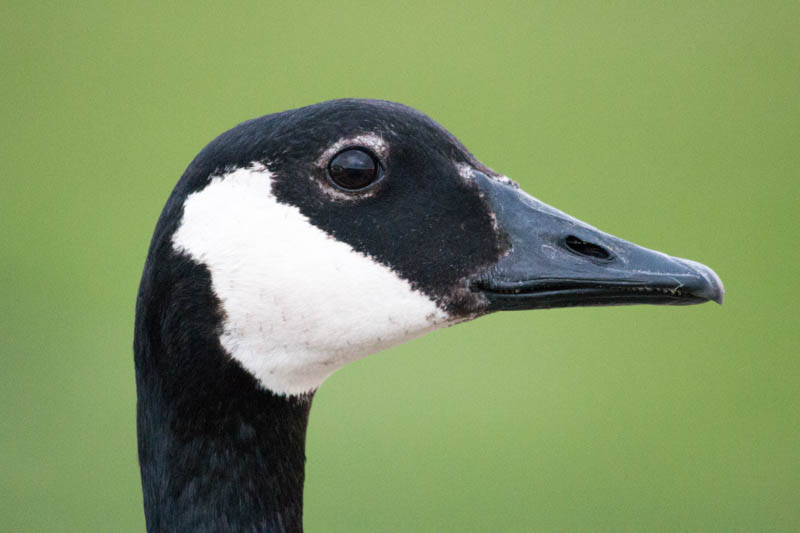goose-head: (134, 99, 726, 404)
